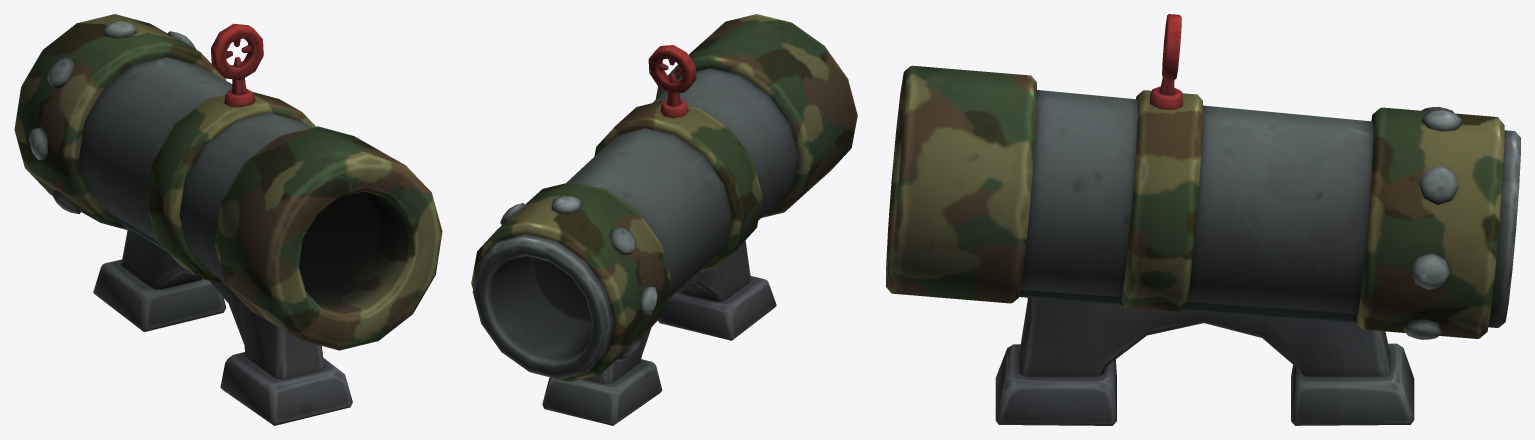
Rendered from SM_TowerDefense_Assault_Weapon_Bazooka_Fixed.fbx.
The picture shows the model from 3 angles, left to right: view 1: azimuth 30°, elevation 25°; view 2: azimuth 150°, elevation 25°; view 3: azimuth 270°, elevation 25°; orthographic projection. The views are drawn at different scales.
Parts seen in each view (by area): view 1: SM_TowerDefense_Assault_Weapon_Bazooka_Fixed; view 2: SM_TowerDefense_Assault_Weapon_Bazooka_Fixed; view 3: SM_TowerDefense_Assault_Weapon_Bazooka_Fixed.
Part boxes in pixels (x1,y1,x2,y2): SM_TowerDefense_Assault_Weapon_Bazooka_Fixed: (14, 14, 442, 425); SM_TowerDefense_Assault_Weapon_Bazooka_Fixed: (471, 14, 857, 425); SM_TowerDefense_Assault_Weapon_Bazooka_Fixed: (886, 14, 1520, 425).
Size of the model in its own units: 201 by 350 by 521.
